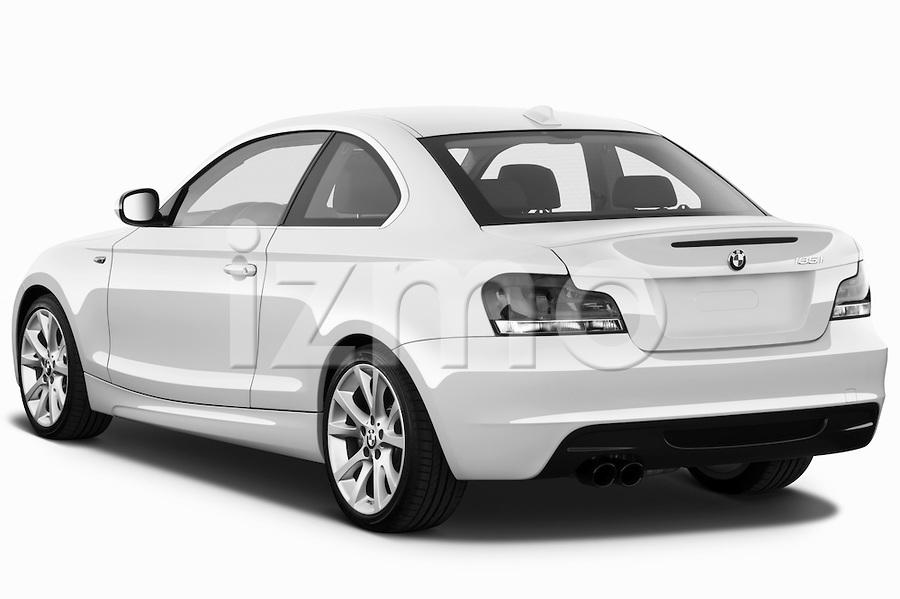car: (1, 82, 900, 564)
